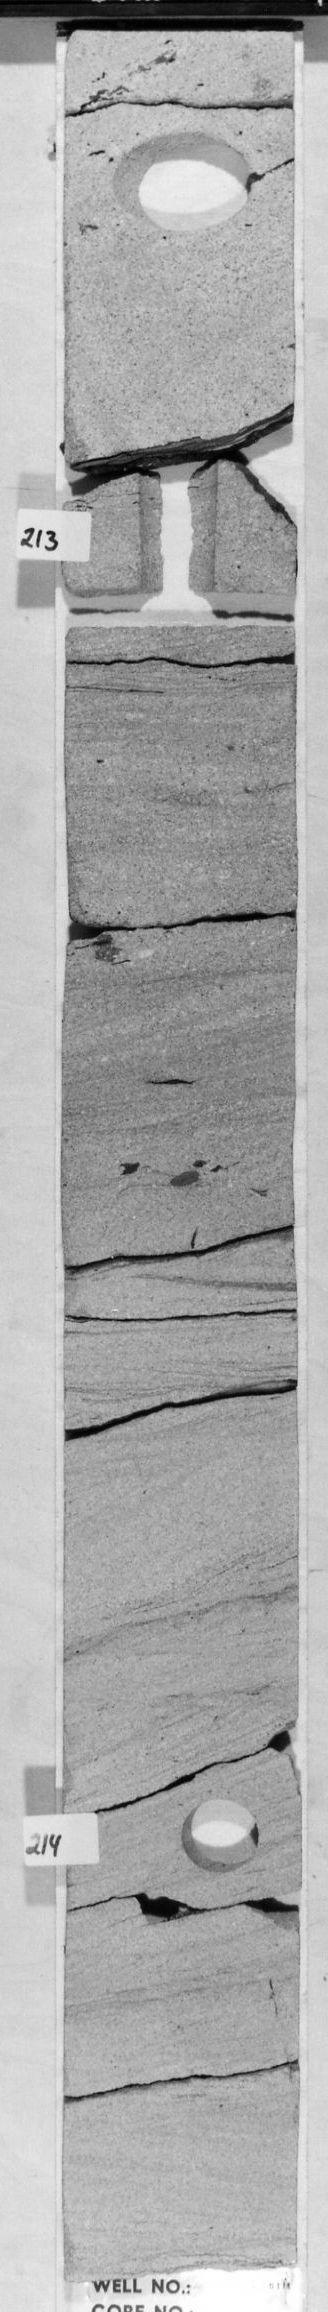hplug: (176, 1793, 264, 1877)
scal: (102, 128, 260, 240)
vplug: (129, 438, 225, 591)
